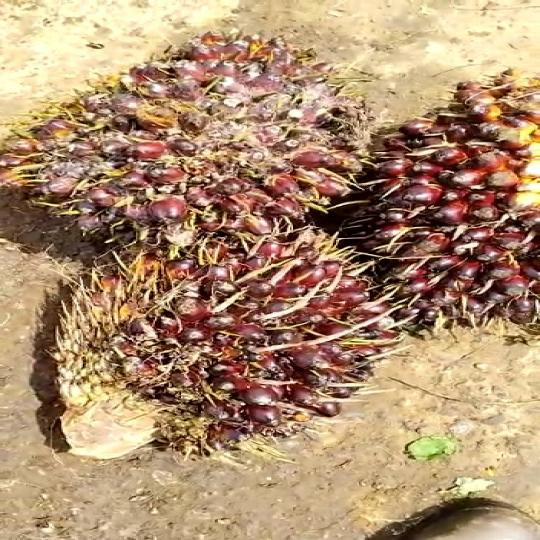kurang masak: (27, 234, 388, 472), (0, 29, 365, 241), (351, 61, 540, 342)
